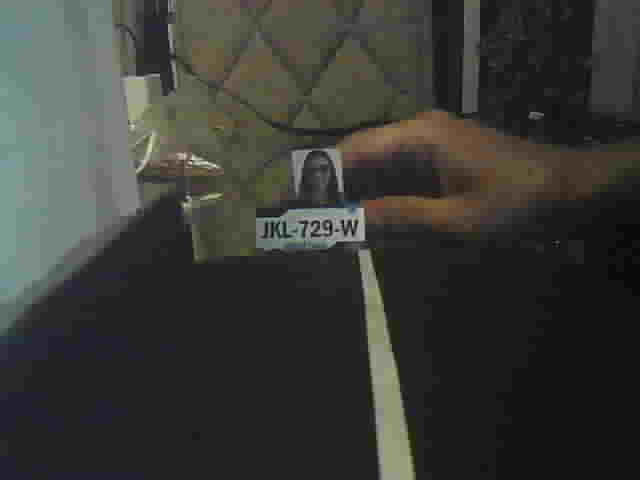PLACA: (255, 205, 367, 254)
ROSTRO: (289, 147, 345, 202)
